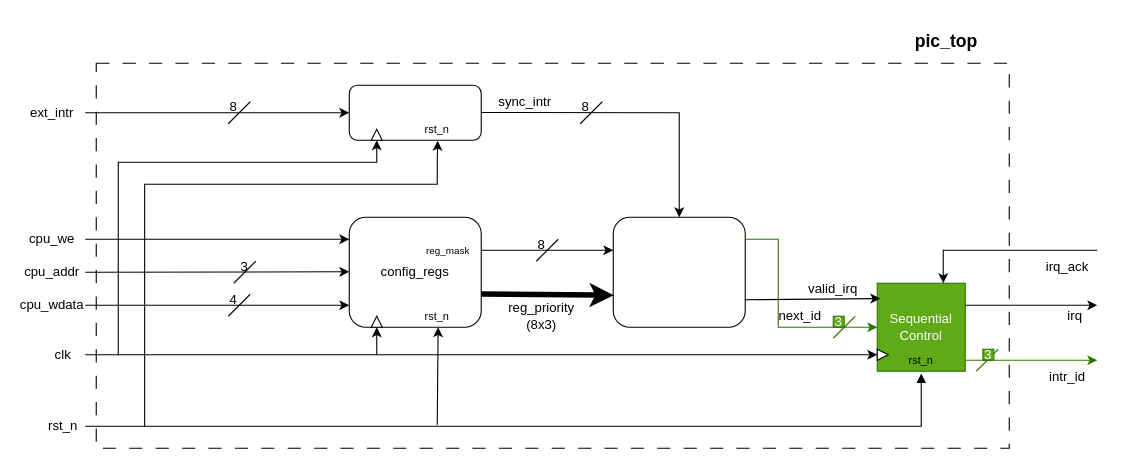
This 1126x468 diagram has some shape labels left out. Here are the shapes that lost their labels. From the top down, the box of each, then its label:
(348, 84, 481, 140): sync_register
(612, 216, 745, 327): priority_encoder
